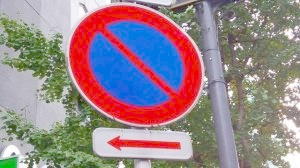Prohibition_sign: (54, 1, 216, 128)
